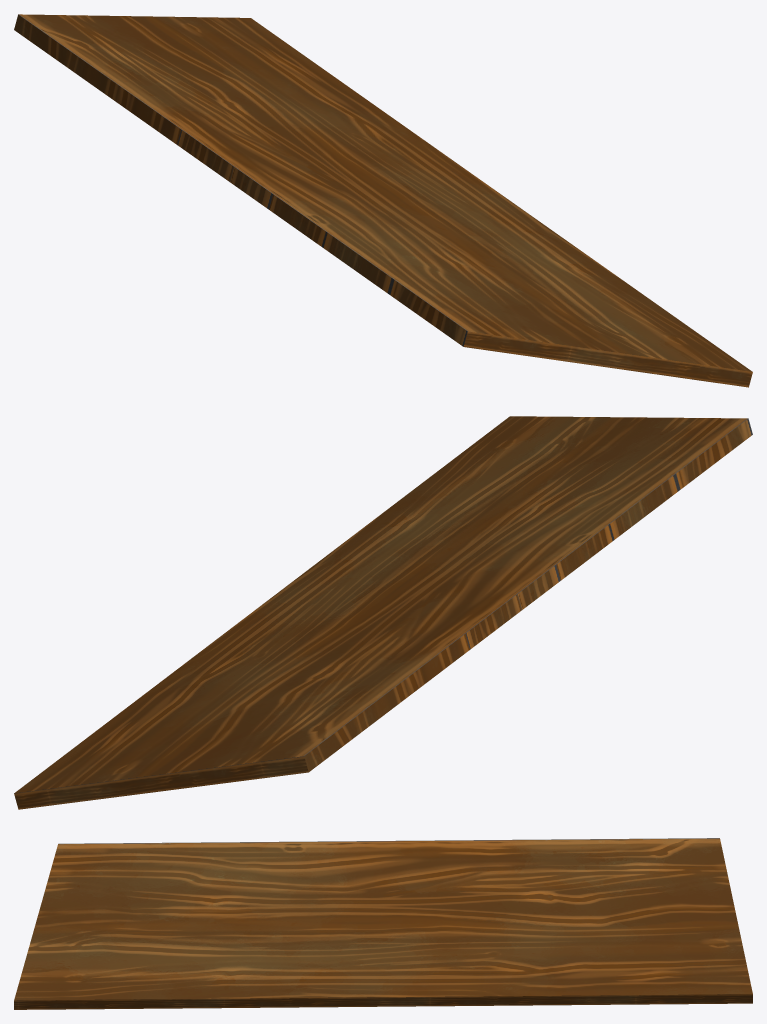
3 views of the same model, one above another, from view 1: azimuth 30°, elevation 25°; view 2: azimuth 150°, elevation 25°; view 3: azimuth 270°, elevation 25° (orthographic). The views are drawn at different scales.
Parts seen in each view (by area): view 1: Cube.1175; view 2: Cube.1175; view 3: Cube.1175.
Boxes of the visible parts, x1,y1,x2,y2 form: Cube.1175: [14, 14, 752, 387]; Cube.1175: [14, 416, 752, 809]; Cube.1175: [14, 838, 752, 1009].
Size of the model in its own units: 251 by 85.06 by 773.
1 material, 1 textured.
